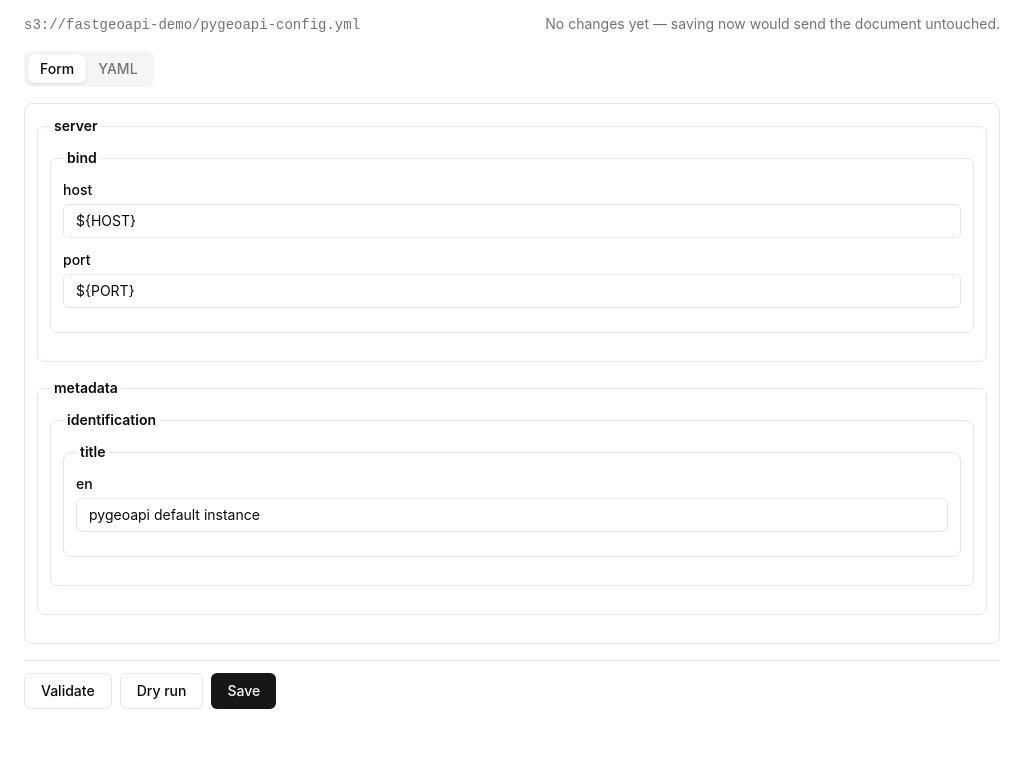
Test: what only fastgeoapi can say › says nothing about either when they are not reported
expect the text "No changes yet" is shown: met, box x1=545 y1=15 x2=1000 y2=32
Click the button "Dry run" at x=162, y=691, box x1=120 y1=673 x2=203 y2=709
(page scrolled)
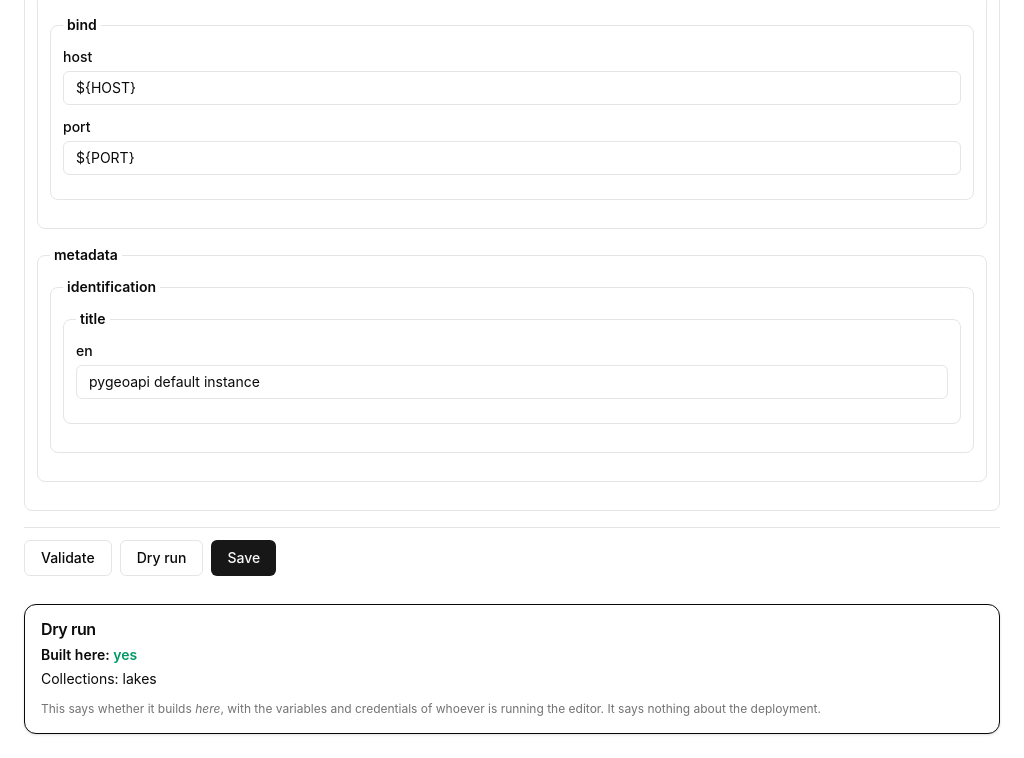
expect the heading "Built here: yes" is shown: met, box x1=41 y1=646 x2=137 y2=663
